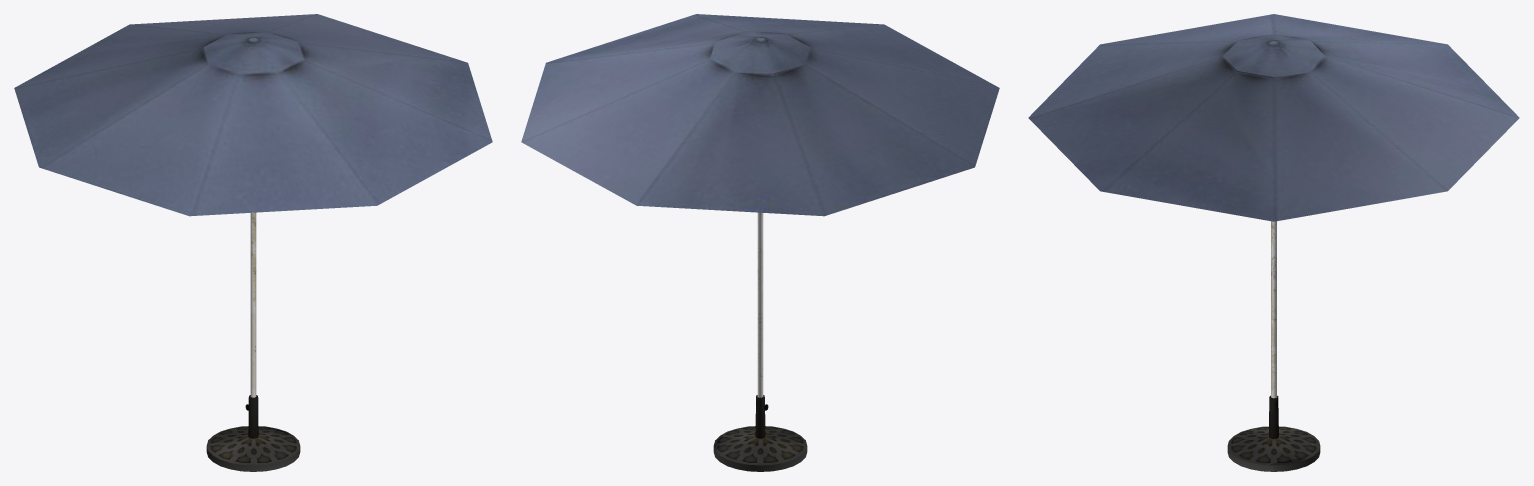
File: umbrella_blue.glb
The picture shows the model from 3 angles, left to right: view 1: azimuth 30°, elevation 25°; view 2: azimuth 150°, elevation 25°; view 3: azimuth 270°, elevation 25°; orthographic projection.
Parts seen in each view (by area): view 1: prop; view 2: prop; view 3: prop.
Boxes of the visible parts, <box> form: prop: <box>14,14,492,471</box>; prop: <box>521,14,999,471</box>; prop: <box>1028,14,1519,471</box>.
Bounding box in the file's own units: 2.53 × 2.33 × 2.53.
Materials: 1 (1 with a texture image).
